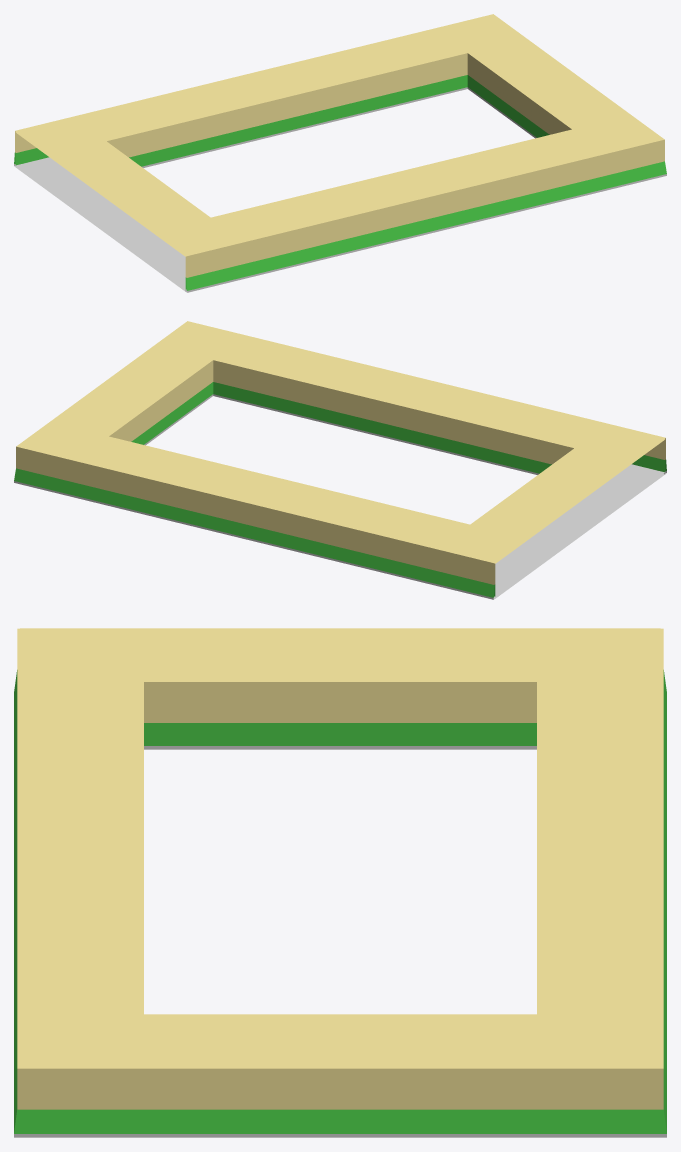
The model's file is interior_school_room_south_00.fbx.
The picture shows the model from 3 angles, top to bottom: view 1: azimuth 30°, elevation 25°; view 2: azimuth 150°, elevation 25°; view 3: azimuth 270°, elevation 25°; orthographic projection. The views are drawn at different scales.
Parts seen in each view (by area): view 1: Visible Mesh; view 2: Visible Mesh; view 3: Visible Mesh.
Boxes of the visible parts, left/top/right/bottom form: Visible Mesh: left=14, top=14, right=666, bottom=292; Visible Mesh: left=14, top=321, right=666, bottom=599; Visible Mesh: left=14, top=628, right=666, bottom=1137.
Bounding box in the file's own units: 5314 × 380 × 3322.
